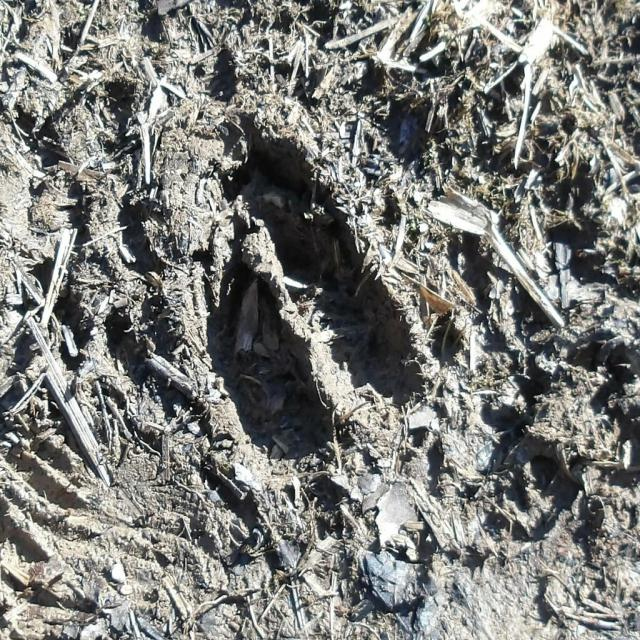deer: (203, 153, 416, 451)
